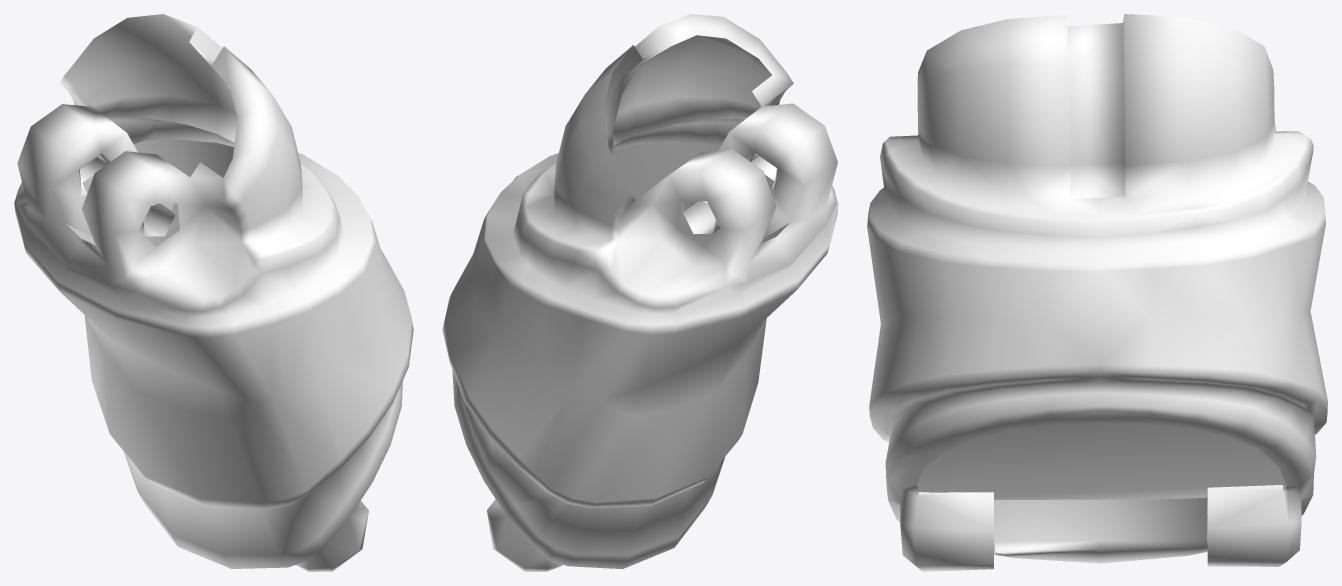
Rendered from LThumb1.dae.
3 renders of one model, left to right at view 1: azimuth 30°, elevation 25°; view 2: azimuth 150°, elevation 25°; view 3: azimuth 270°, elevation 25°, orthographic. The views are drawn at different scales.
Parts seen in each view (by area): view 1: LThumb1; view 2: LThumb1; view 3: LThumb1.
Boxes of the visible parts, <box> form: LThumb1: <box>14,14,413,571</box>; LThumb1: <box>442,14,838,571</box>; LThumb1: <box>867,14,1327,571</box>.
Bounding box in the file's own units: 136 × 159 × 213.
1 material, 1 textured.
